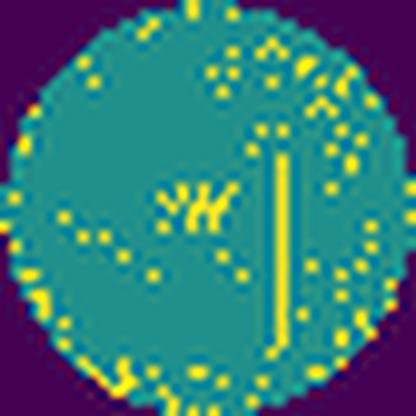Scratch: (260, 148, 298, 368)
